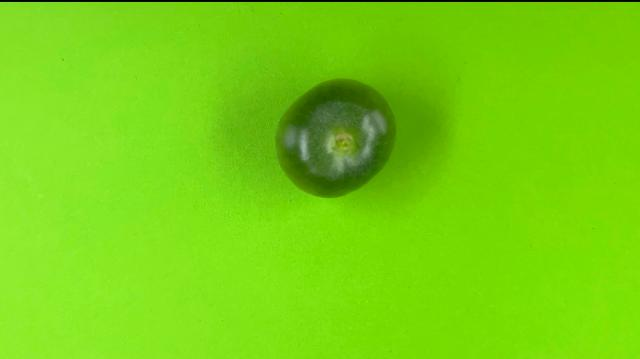Fruit Maturation: (274, 78, 397, 199)
